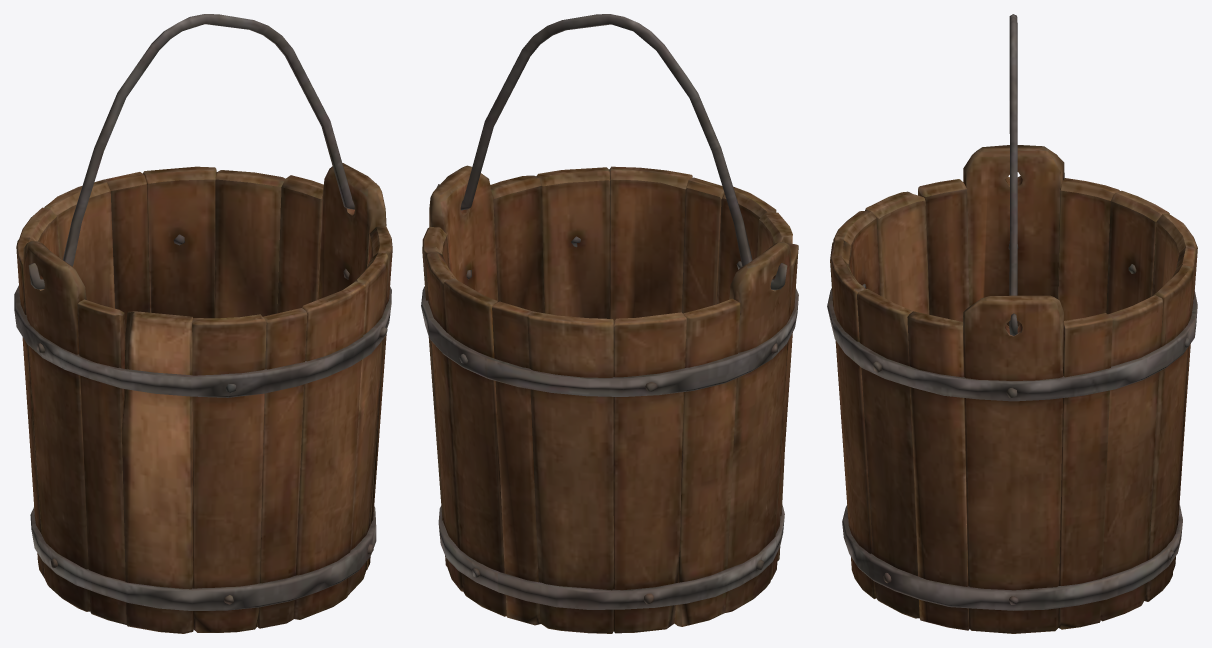
The model's file is wooden_bucket_01.glb.
3 views of the same model, side by side, from view 1: azimuth 30°, elevation 25°; view 2: azimuth 150°, elevation 25°; view 3: azimuth 270°, elevation 25° (orthographic).
Visible parts, largest first — view 1: wooden_bucket_01; view 2: wooden_bucket_01; view 3: wooden_bucket_01.
Part boxes in pixels (x1,y1,x2,y2): wooden_bucket_01: [14, 14, 392, 633]; wooden_bucket_01: [421, 14, 798, 633]; wooden_bucket_01: [827, 14, 1197, 633].
Size of the model in its own units: 0.3663 by 0.5499 by 0.3419.
1 material, 1 textured.
